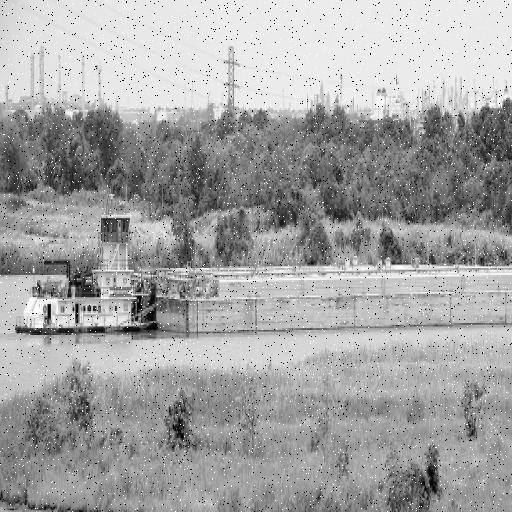tugboat: (12, 195, 161, 343)
